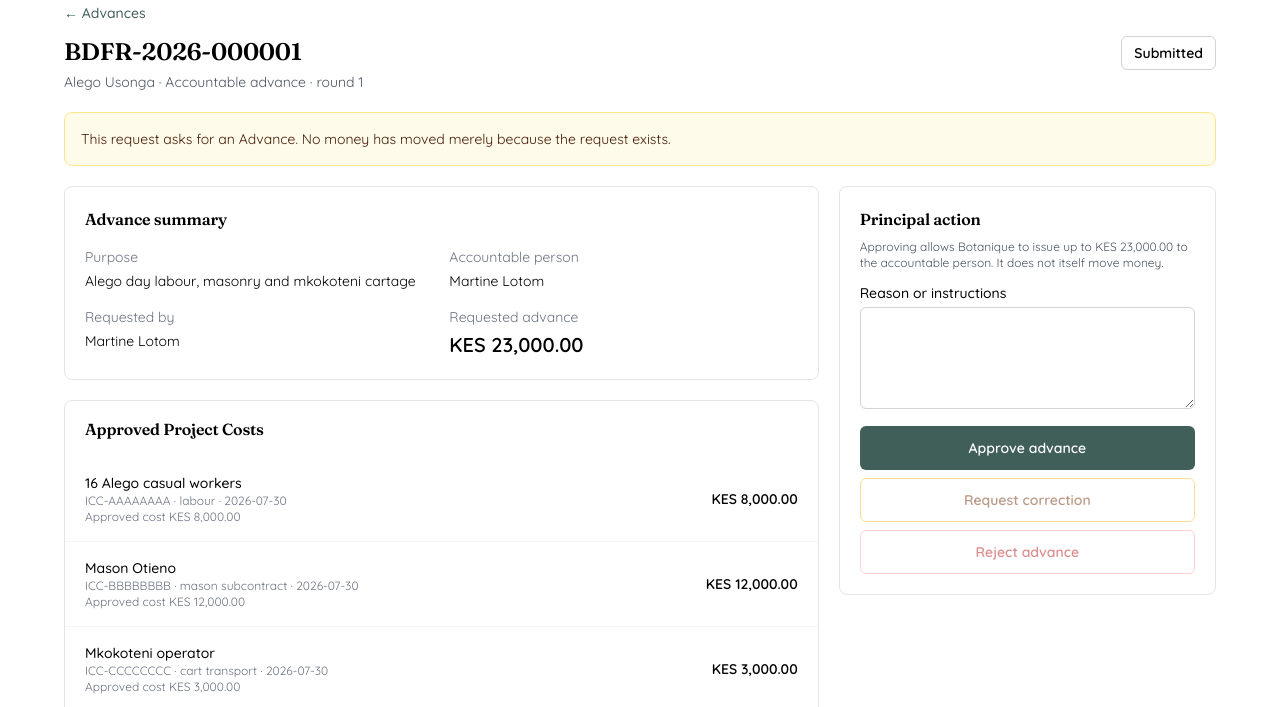
Scenario: Advances admin surfaces › recovers from a stale Principal decision without implying a change
What coordinates should you click on to do the following:
click the button "Approve advance"
I would click on:
 (1027, 448)
Its box is [860,426,1195,470].
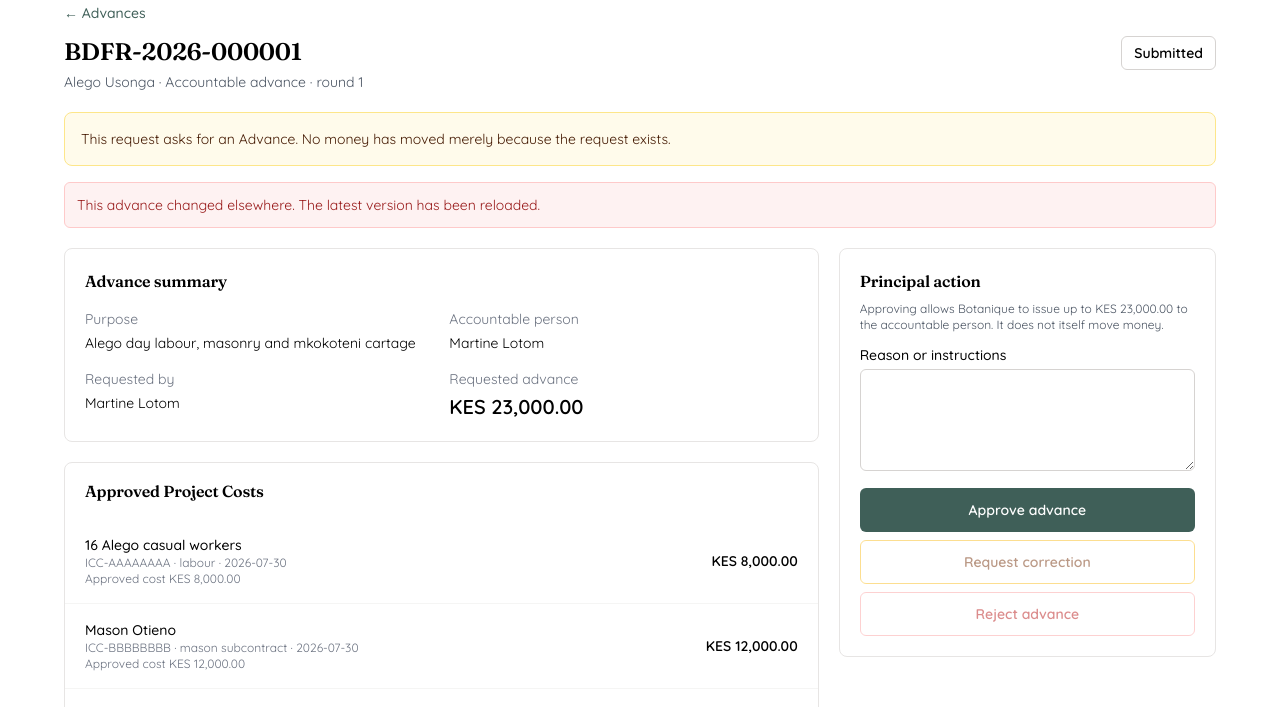
Expected: the text "changed elsewhere" is shown, [77,196,540,214]
